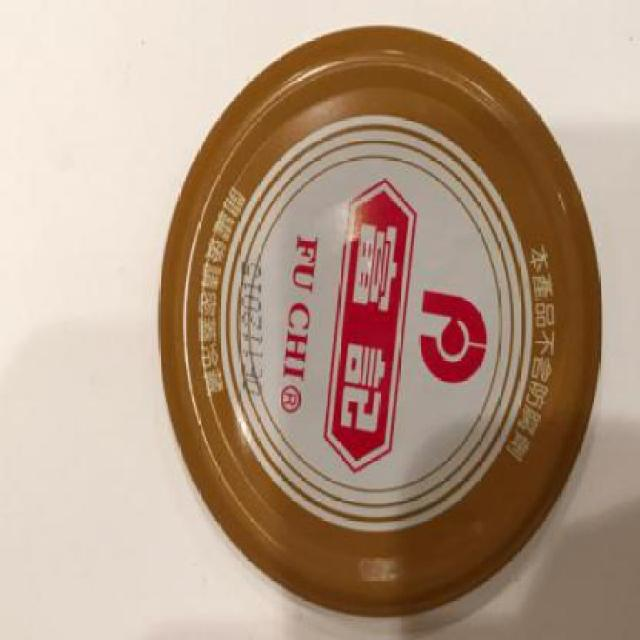METAL: (157, 23, 601, 617)
